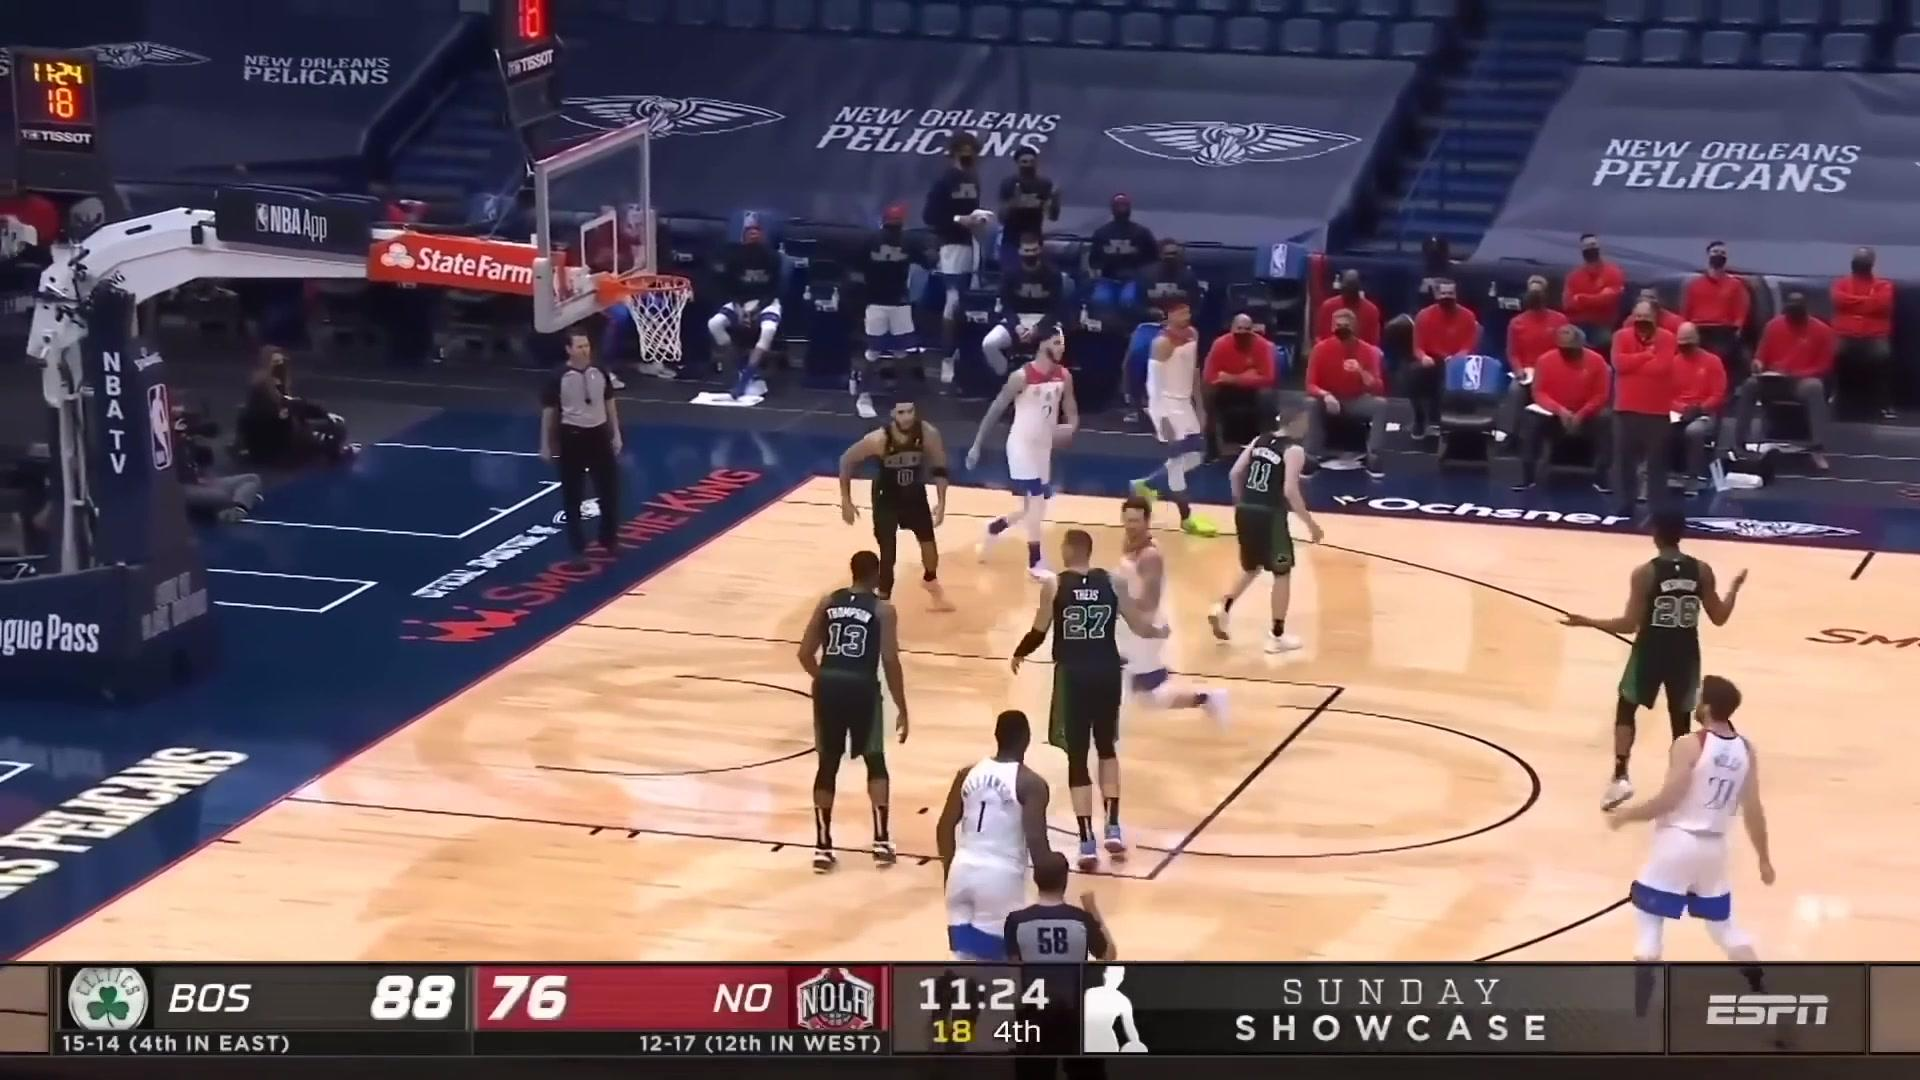no_foul: (824, 368, 1039, 603)
